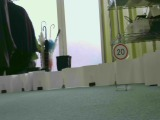speed_20: (111, 43, 129, 61)
